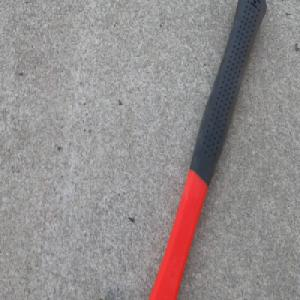Hammer: (142, 0, 267, 300)
